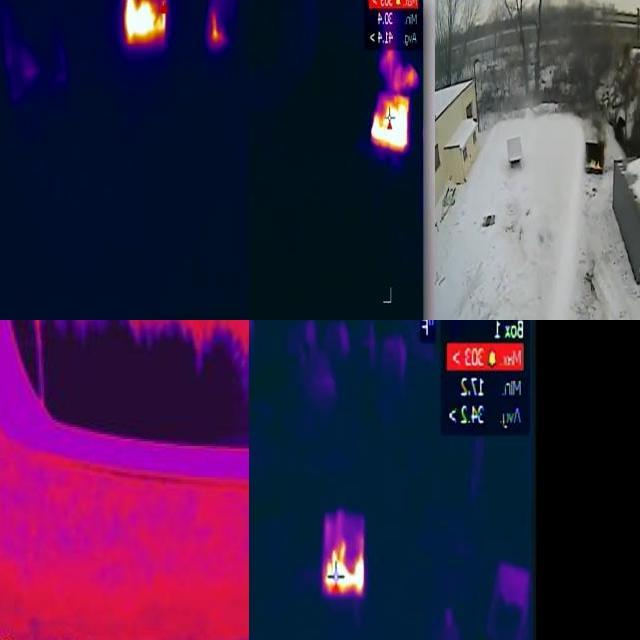fire: (322, 503, 365, 597), (371, 95, 409, 153), (123, 1, 167, 47), (210, 10, 227, 48), (586, 158, 605, 174)
